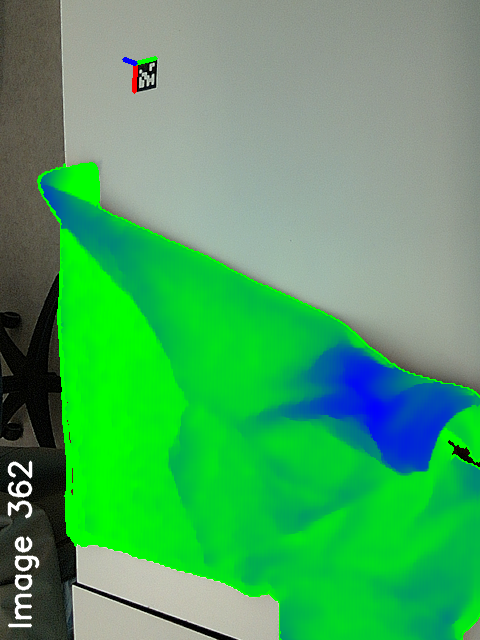V: (191, 523, 251, 575)
